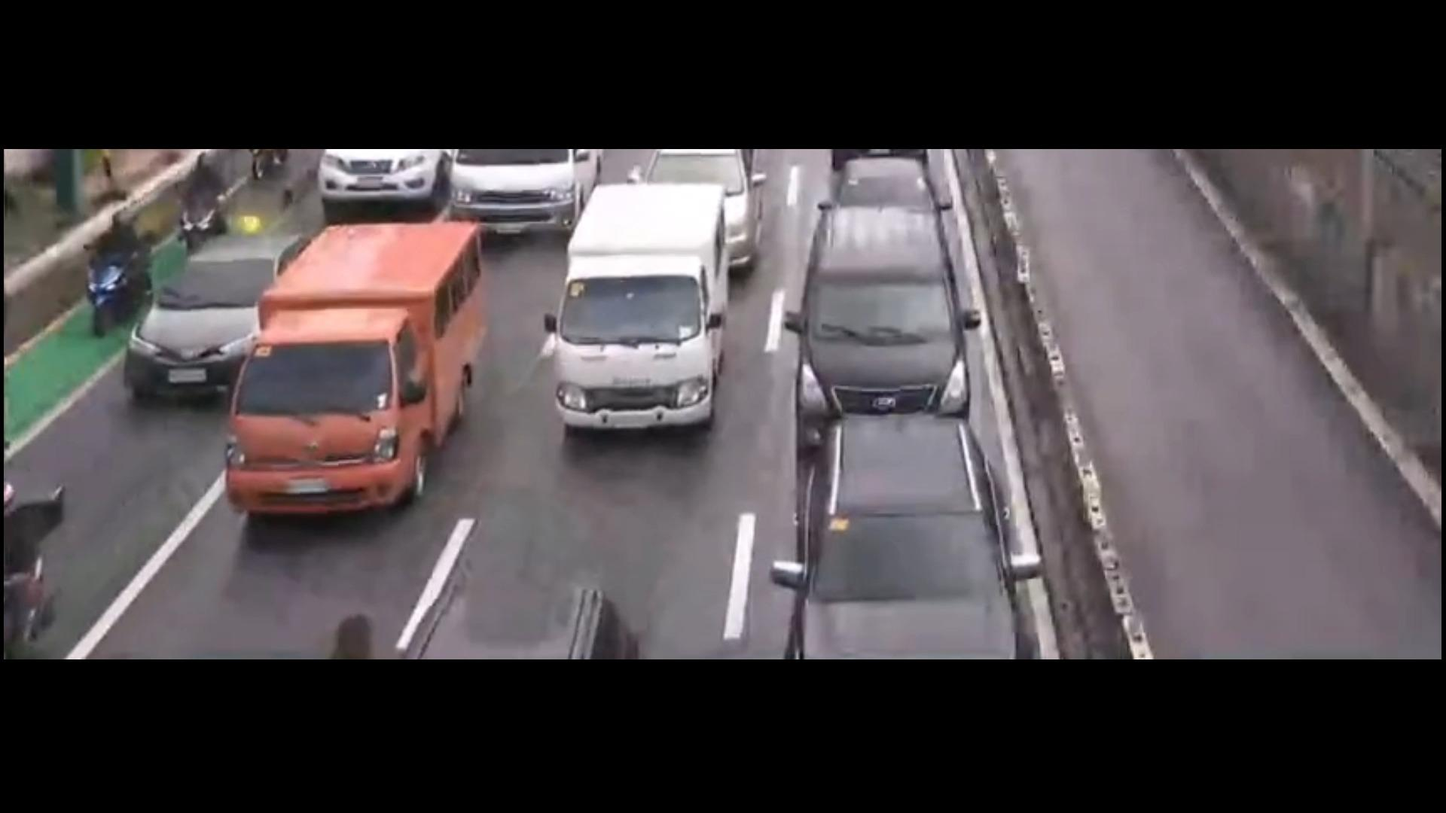Motorcycle: (83, 207, 150, 343), (173, 153, 231, 259)
Multicab: (221, 223, 490, 521), (553, 184, 733, 428)
SUV: (774, 415, 1032, 659), (791, 208, 1008, 464), (630, 151, 767, 269)
Sedan: (124, 232, 313, 403)
